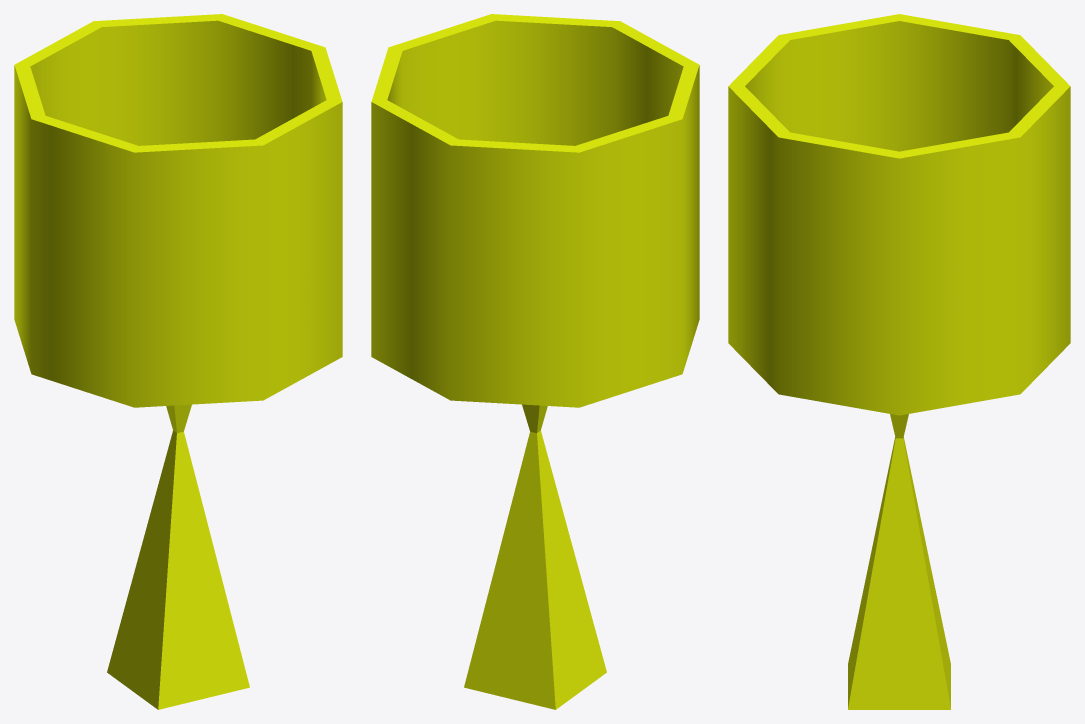
The model's file is Lamp2.FBX.
3 views of the same model, side by side, from view 1: azimuth 30°, elevation 25°; view 2: azimuth 150°, elevation 25°; view 3: azimuth 270°, elevation 25° (orthographic).
Visible parts, largest first — view 1: Pyramid001; view 2: Pyramid001; view 3: Pyramid001.
Boxes of the visible parts, box(x1,y1,x2,y2) form: Pyramid001: box(14, 14, 342, 709); Pyramid001: box(371, 14, 699, 709); Pyramid001: box(728, 14, 1070, 709).
Bounding box in the file's own units: 0.5032 × 0.9754 × 0.5032.
